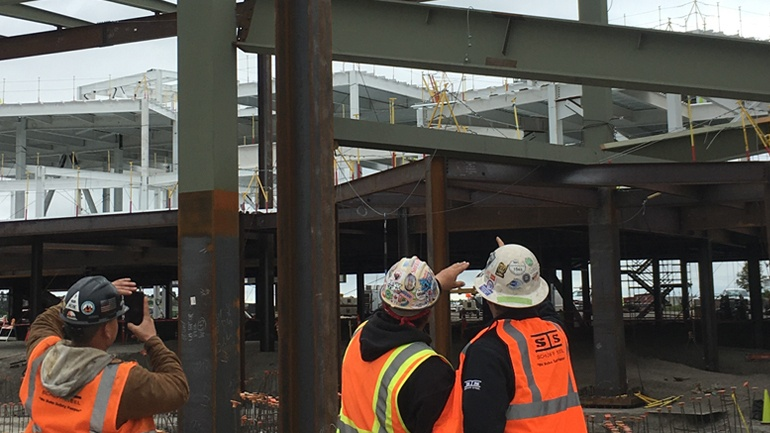white: (480, 244, 545, 315), (380, 255, 441, 322)
